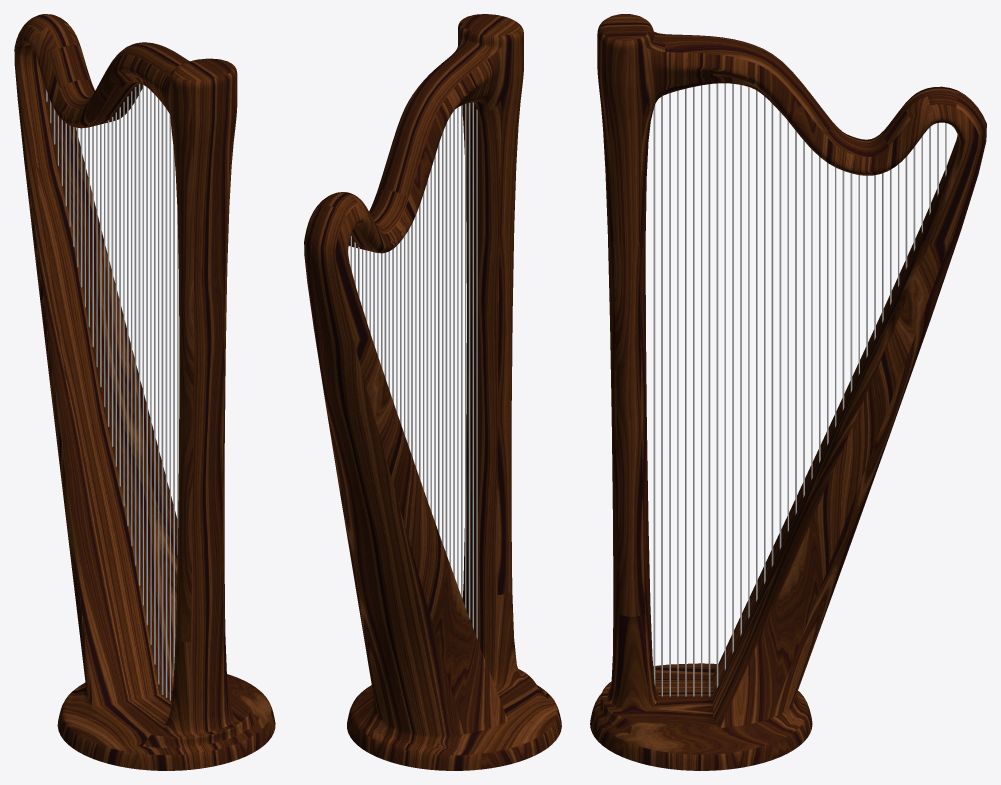
File: Konzerthafeweapon.fbx
The picture shows the model from 3 angles, left to right: view 1: azimuth 30°, elevation 25°; view 2: azimuth 150°, elevation 25°; view 3: azimuth 270°, elevation 25°; orthographic projection. The views are drawn at different scales.
Parts seen in each view (by area): view 1: Circle, Circle.001; view 2: Circle, Circle.001; view 3: Circle, Circle.001.
Part boxes in pixels (x1=…): Circle: x1=14, y1=14, x2=275, y2=770; Circle.001: x1=46, y1=84, x2=178, y2=700; Circle: x1=304, y1=14, x2=561, y2=770; Circle.001: x1=348, y1=102, x2=477, y2=639; Circle: x1=590, y1=14, x2=986, y2=770; Circle.001: x1=653, y1=83, x2=946, y2=696.
Size of the model in its own units: 135 by 466 by 240.
